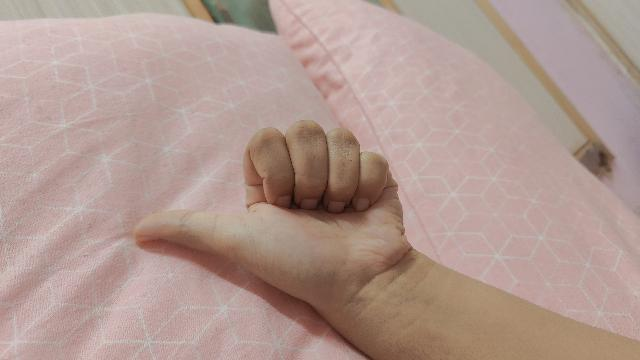shikhar: (132, 120, 640, 360)
